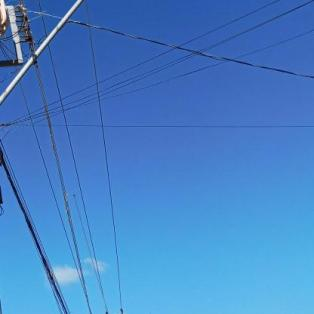Poste: (0, 0, 13, 311)
